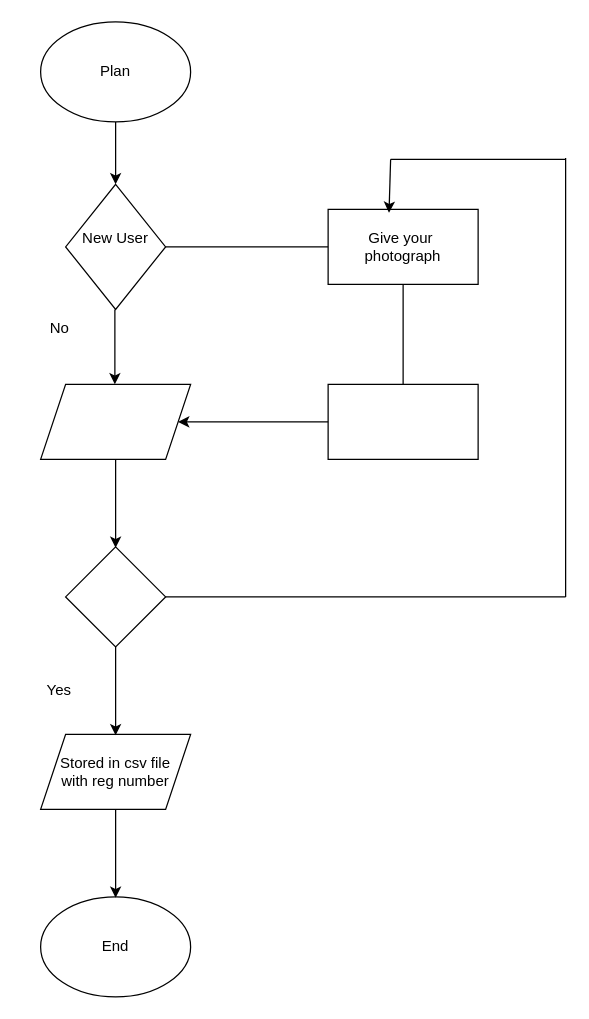
The diagram is 589 pixels wide and 1019 high, and some of its shapes have lost their labels. Here are the shapes that lost their labels. From the top down, the box of each, then its label:
(39, 383, 191, 459): Recognize the face
(327, 383, 478, 459): Store the face data in folder on your name
(64, 546, 166, 647): Face Recognized
